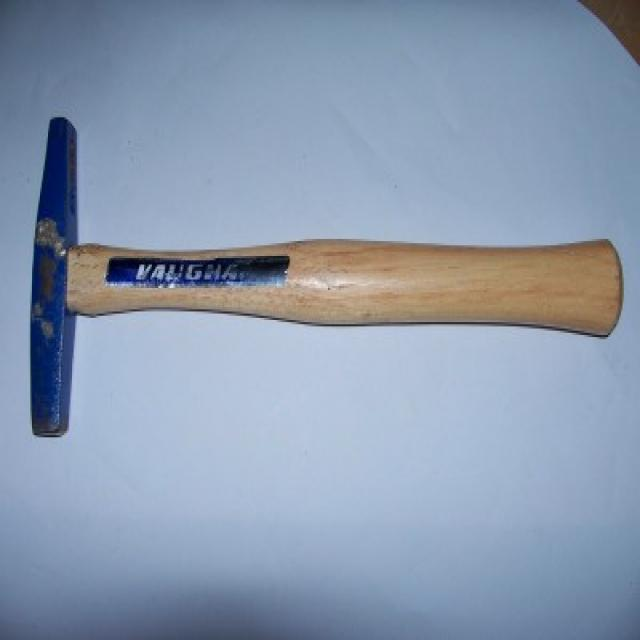hammer: (10, 100, 632, 456)
